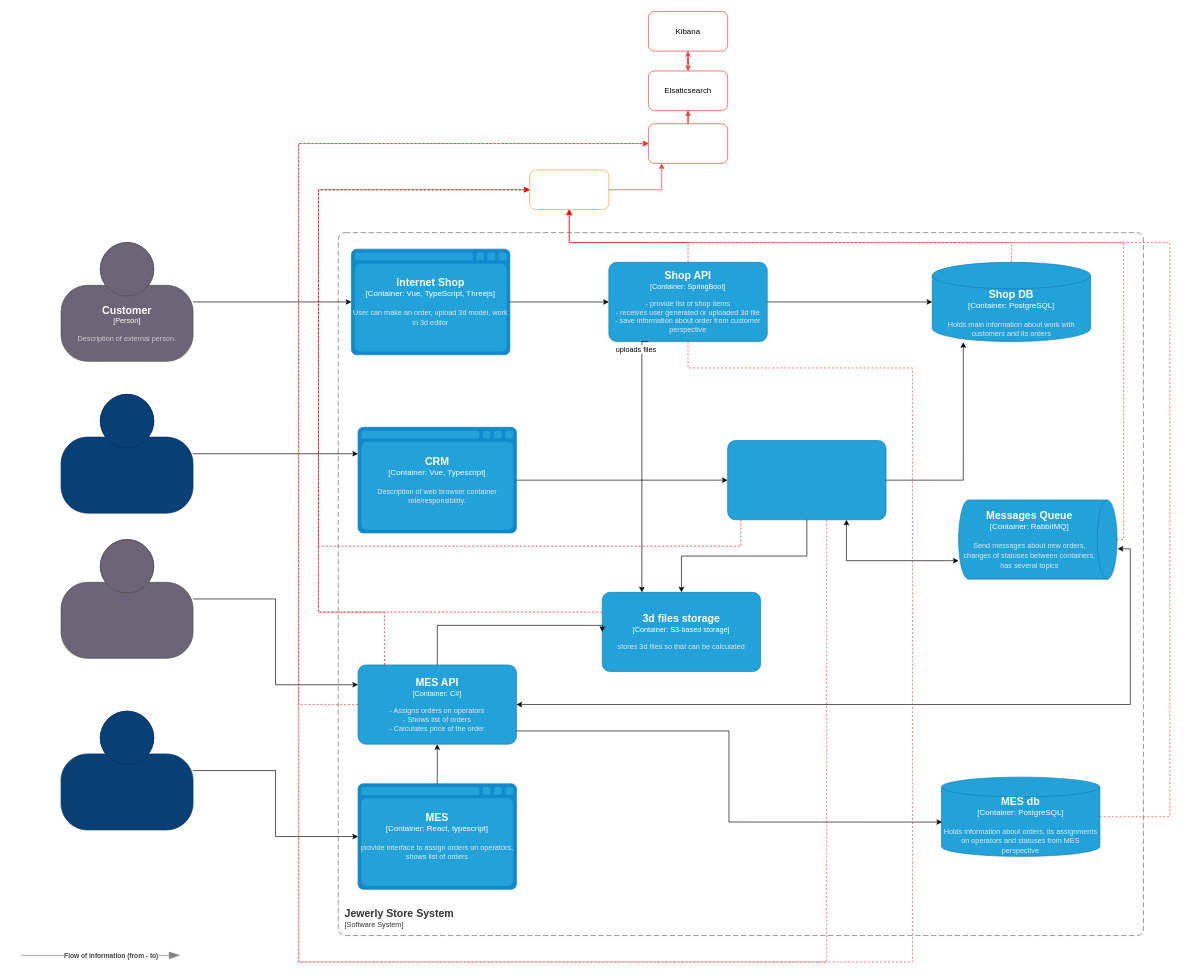
Image size: 1187x979. Some labels were removed from this diagram. Each missing label, with the centre of its shape:
"API user [Person] Description of external person." goes at point 126,598.
"CRM API [Container: SpringBoot] Description of container role/responsibility." goes at point 806,480.
"Filebeat" goes at point 569,189.
"Logstash" goes at point 688,143.
"Operator [Person] Takes order in work, manufactures jewerly" goes at point 126,770.
"Seller [Person] Operates with order, confirms manufacturing for the user" goes at point 126,453.
